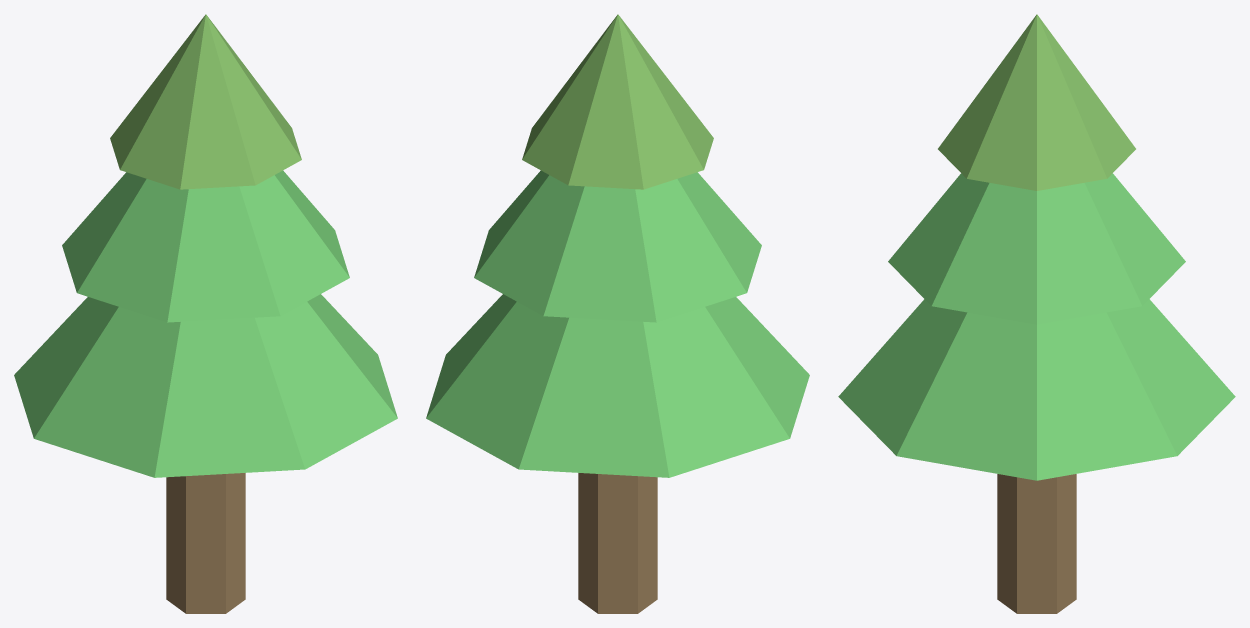
The model's file is tree1.glb.
3 renders of one model, left to right at view 1: azimuth 30°, elevation 25°; view 2: azimuth 150°, elevation 25°; view 3: azimuth 270°, elevation 25°, orthographic.
Visible parts, largest first — view 1: tree; view 2: tree; view 3: tree.
Boxes of the visible parts, x1,y1,x2,y2 form: tree: (14,14,397,613); tree: (426,14,809,613); tree: (838,14,1235,613).
Bounding box in the file's own units: 0.8 × 1.3 × 0.8.
